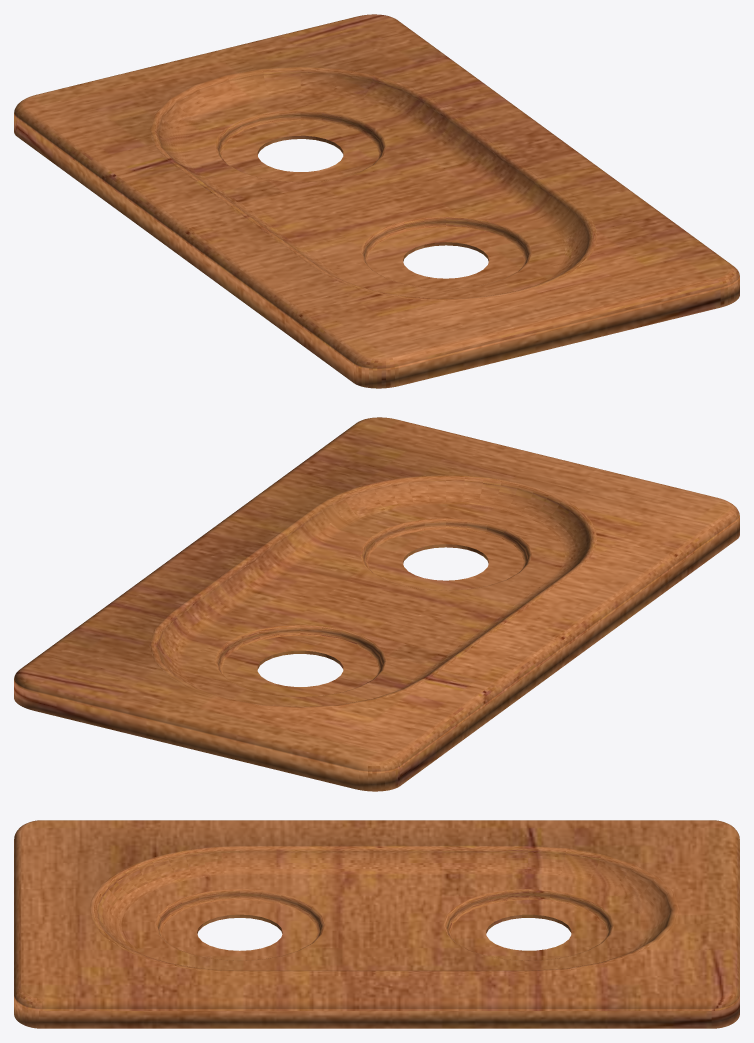
The model's file is original-154.obj.
3 renders of one model, top to bottom at view 1: azimuth 30°, elevation 25°; view 2: azimuth 150°, elevation 25°; view 3: azimuth 270°, elevation 25°, orthographic.
Visible parts, largest first — view 1: Group32/mesh140/mesh140-geometry/material_0#mesh140-geometry; view 2: Group32/mesh140/mesh140-geometry/material_0#mesh140-geometry; view 3: Group32/mesh140/mesh140-geometry/material_0#mesh140-geometry.
Boxes of the visible parts, x1,y1,x2,y2 form: Group32/mesh140/mesh140-geometry/material_0#mesh140-geometry: [14, 14, 739, 388]; Group32/mesh140/mesh140-geometry/material_0#mesh140-geometry: [14, 417, 739, 791]; Group32/mesh140/mesh140-geometry/material_0#mesh140-geometry: [14, 820, 739, 1028].
Bounding box in the file's own units: 0.3829 × 0.0261 × 0.6326.
